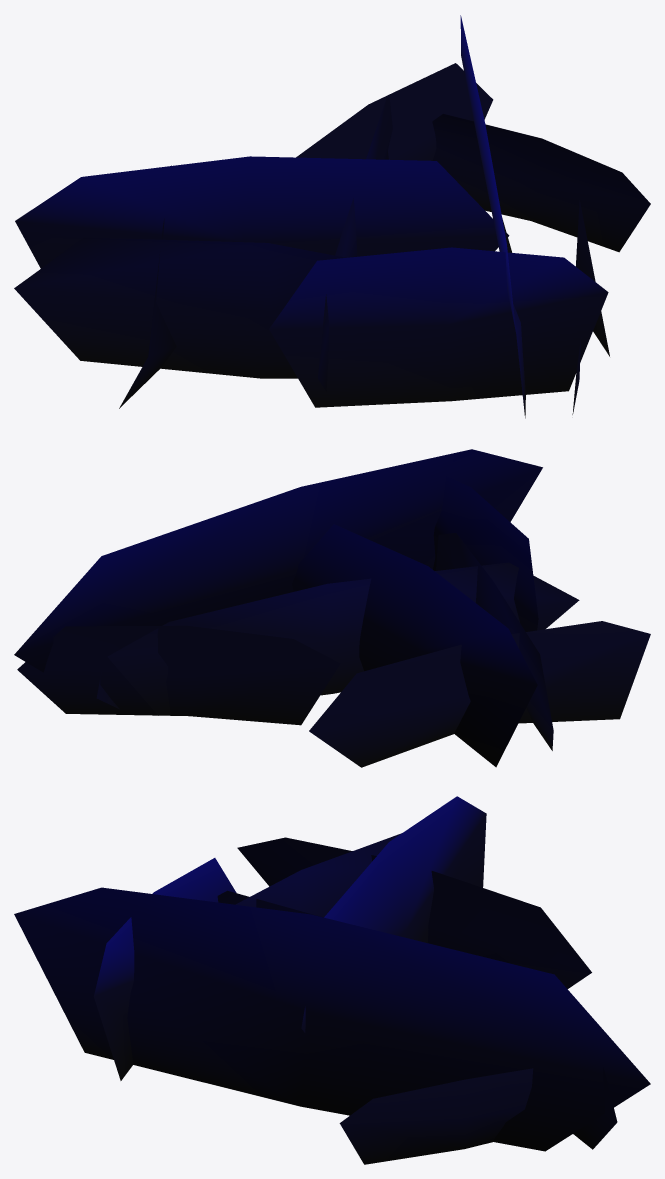
Rendered from SM_Grass_XS_Patch_S_03.fbx.
The picture shows the model from 3 angles, top to bottom: view 1: azimuth 30°, elevation 25°; view 2: azimuth 150°, elevation 25°; view 3: azimuth 270°, elevation 25°; orthographic projection. The views are drawn at different scales.
Parts seen in each view (by area): view 1: SM_Grass_XS_Patch_S_03; view 2: SM_Grass_XS_Patch_S_03; view 3: SM_Grass_XS_Patch_S_03.
Part boxes in pixels (left/top/right/bottom): SM_Grass_XS_Patch_S_03: left=14, top=15, right=650, bottom=418; SM_Grass_XS_Patch_S_03: left=14, top=449, right=650, bottom=767; SM_Grass_XS_Patch_S_03: left=14, top=796, right=650, bottom=1164.
Bounding box in the file's own units: 61.68 × 64.5 × 19.83.
